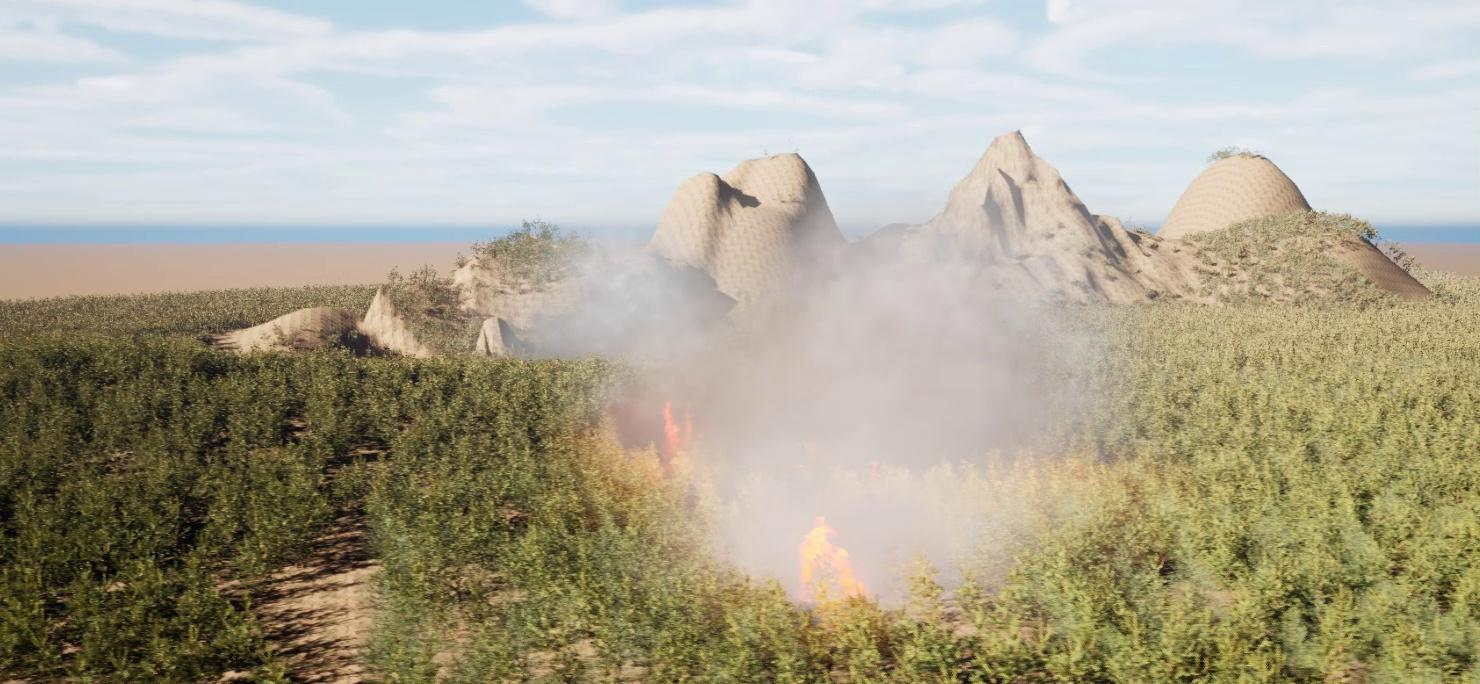fire: (792, 509, 868, 606), (647, 401, 701, 470)
smoke: (506, 186, 1125, 615)
